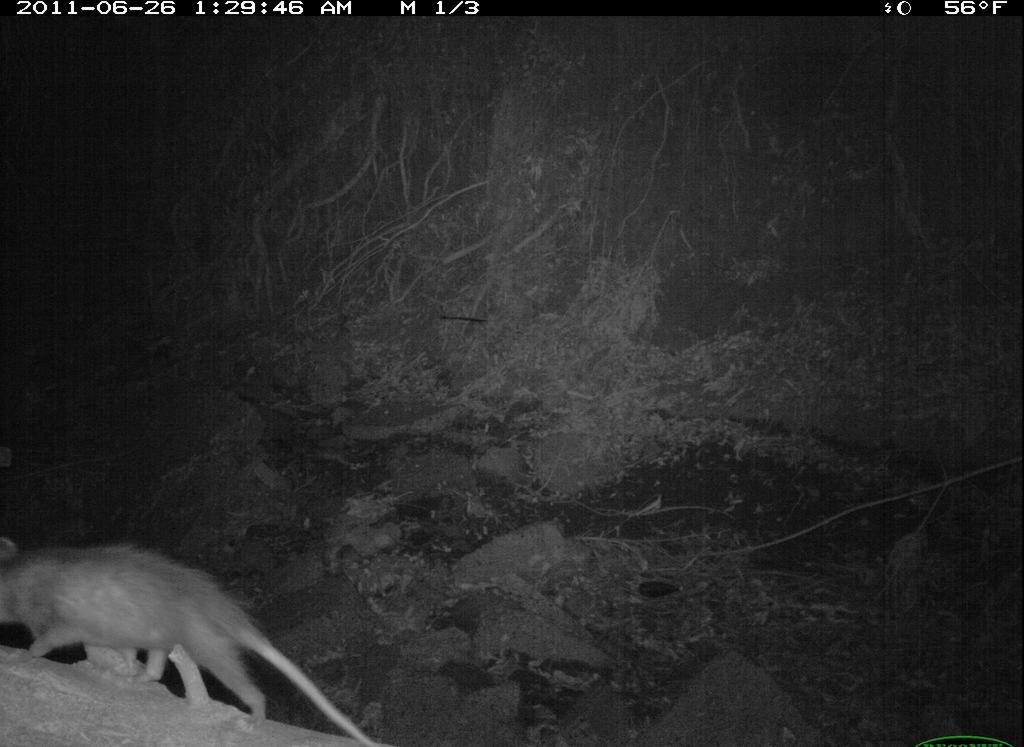opossum: (1, 530, 383, 744)
